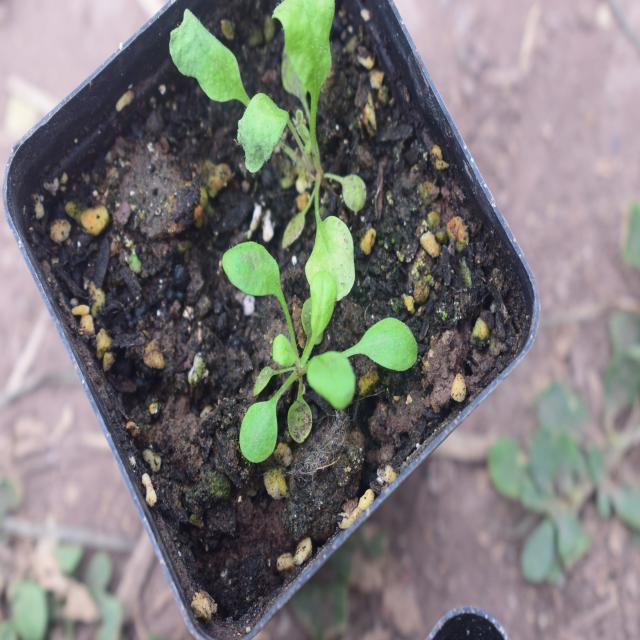Shepherd_Purse: (214, 234, 407, 461)
